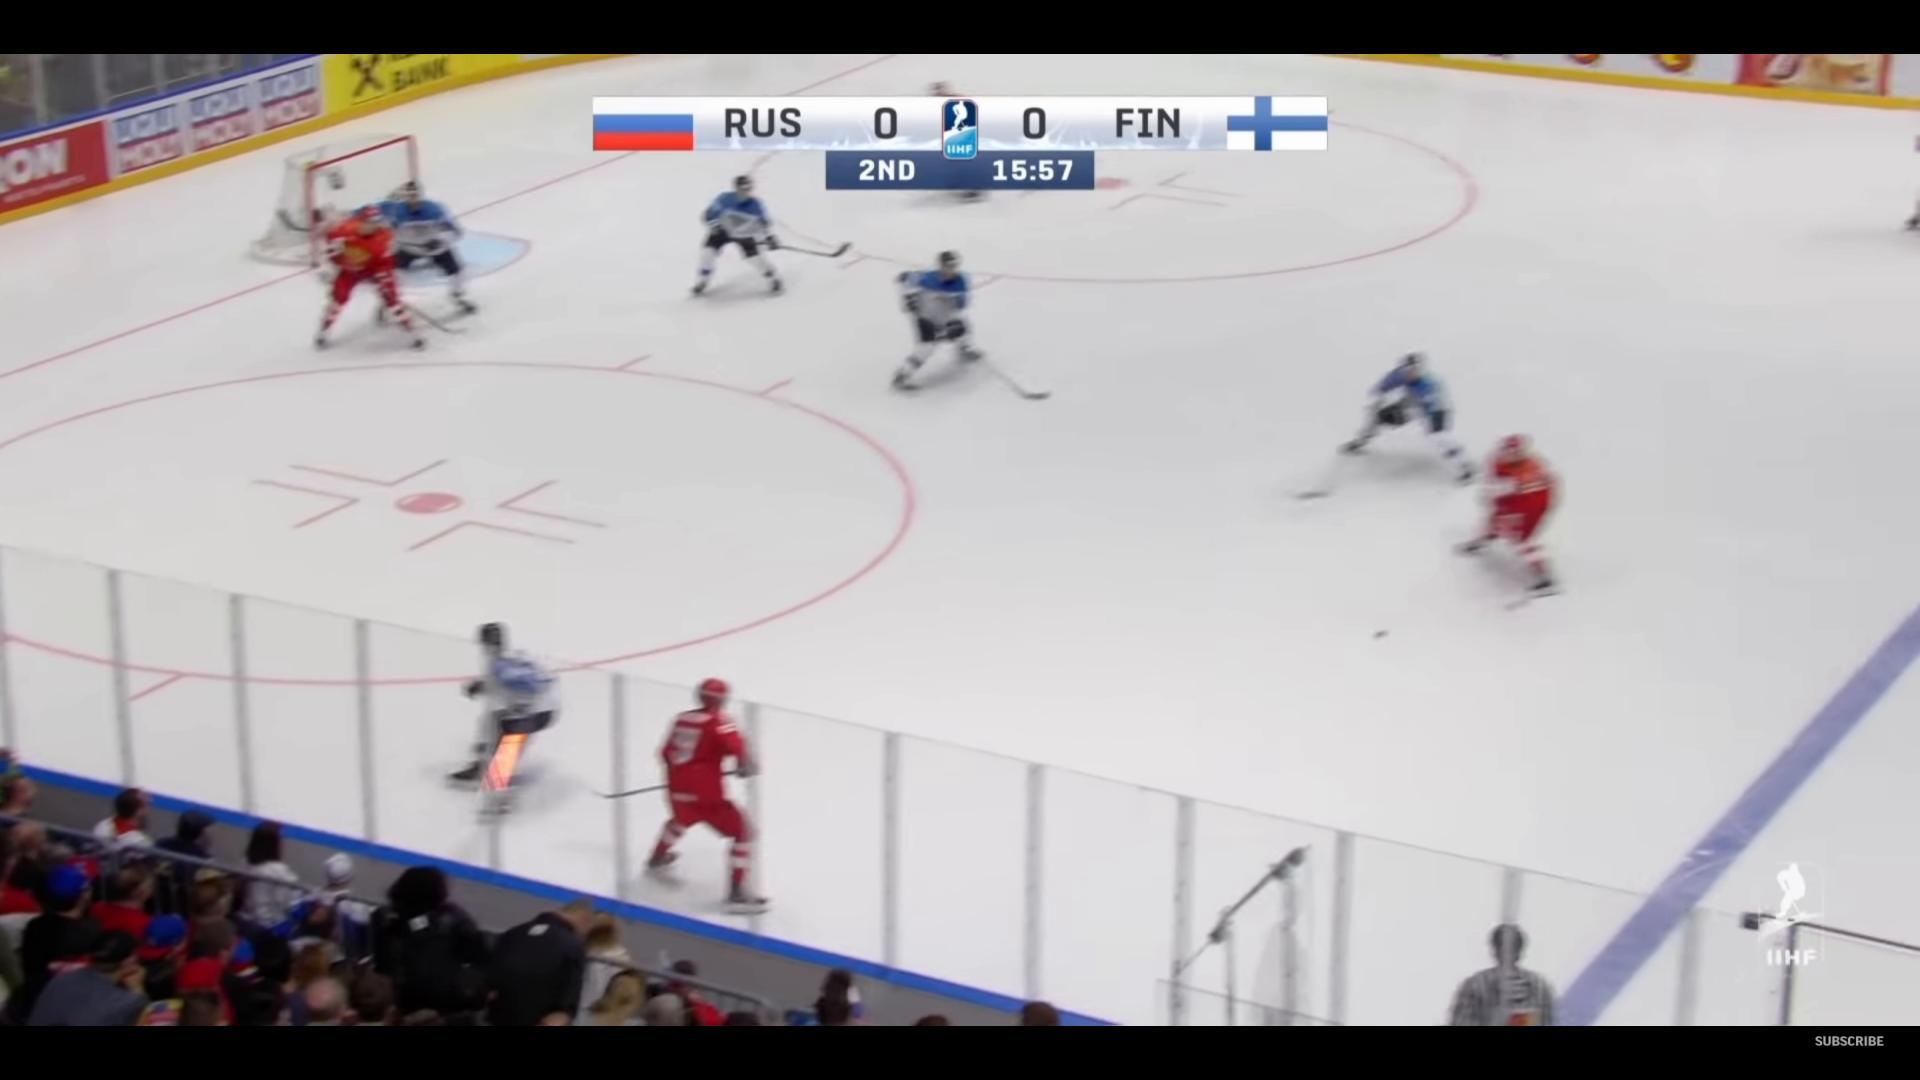puck: (1370, 628, 1391, 638)
